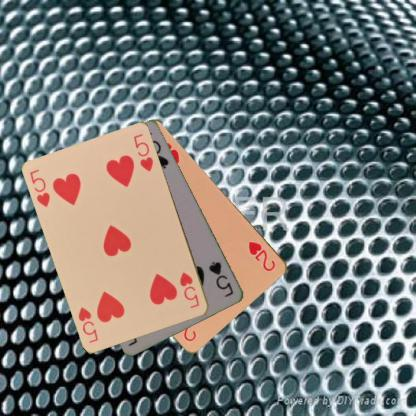2h: (246, 238, 277, 272)
5h: (28, 166, 52, 209), (177, 269, 201, 310)
5s: (206, 259, 235, 299)
